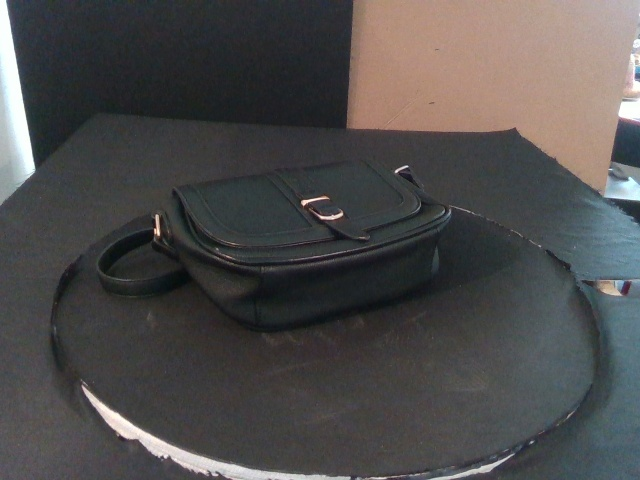bag: (156, 156, 452, 332)
